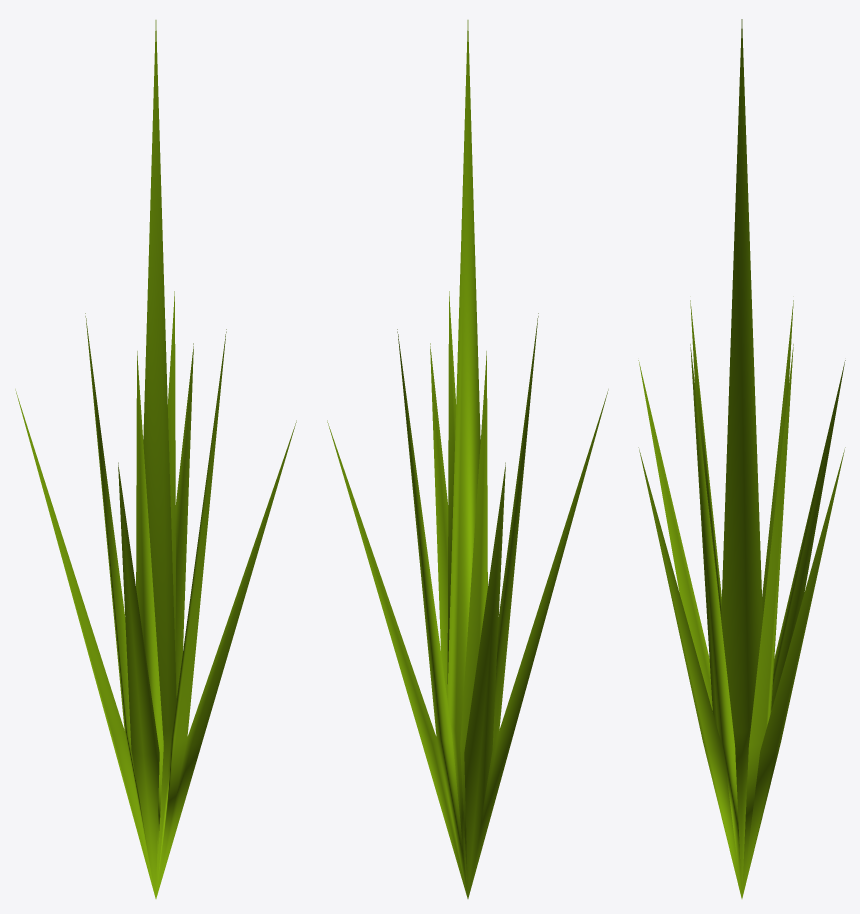
File: Perennao100cm.glb
3 renders of one model, left to right at view 1: azimuth 30°, elevation 25°; view 2: azimuth 150°, elevation 25°; view 3: azimuth 270°, elevation 25°, orthographic.
Visible parts, largest first — view 1: Perennao100cm; view 2: Perennao100cm; view 3: Perennao100cm.
Boxes of the visible parts, x1=… form: Perennao100cm: x1=15, y1=20, x2=296, y2=898; Perennao100cm: x1=327, y1=20, x2=608, y2=898; Perennao100cm: x1=638, y1=19, x2=845, y2=898.
Bounding box in the file's own units: 0.2122 × 1 × 0.2122.
